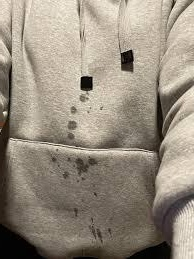oil: (84, 225, 115, 242), (73, 156, 96, 175), (73, 95, 90, 108), (65, 121, 76, 140), (94, 105, 105, 119), (68, 107, 78, 119), (72, 205, 78, 217), (61, 171, 69, 179), (50, 158, 56, 165), (90, 190, 96, 197), (56, 149, 63, 154)
